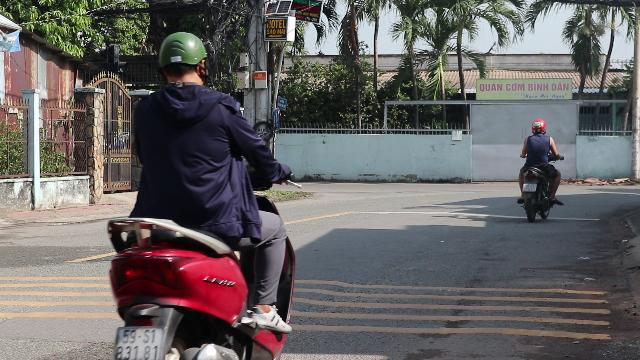helmet: (154, 30, 208, 86), (530, 118, 546, 134)
licenseplate: (114, 326, 164, 358), (524, 183, 536, 191)
motorcyclist: (95, 30, 305, 358), (514, 118, 562, 220)
